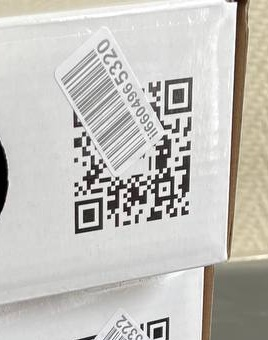1d: (60, 49, 146, 171)
